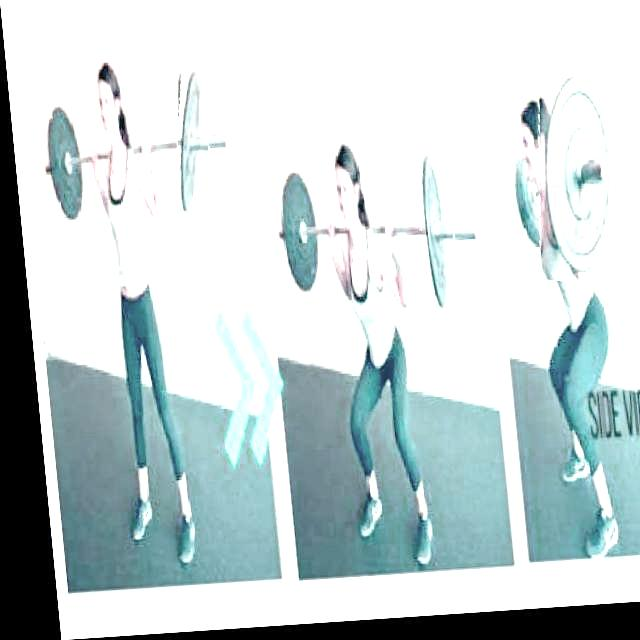barbell: (524, 65, 627, 292), (162, 65, 218, 237), (410, 148, 455, 325)
